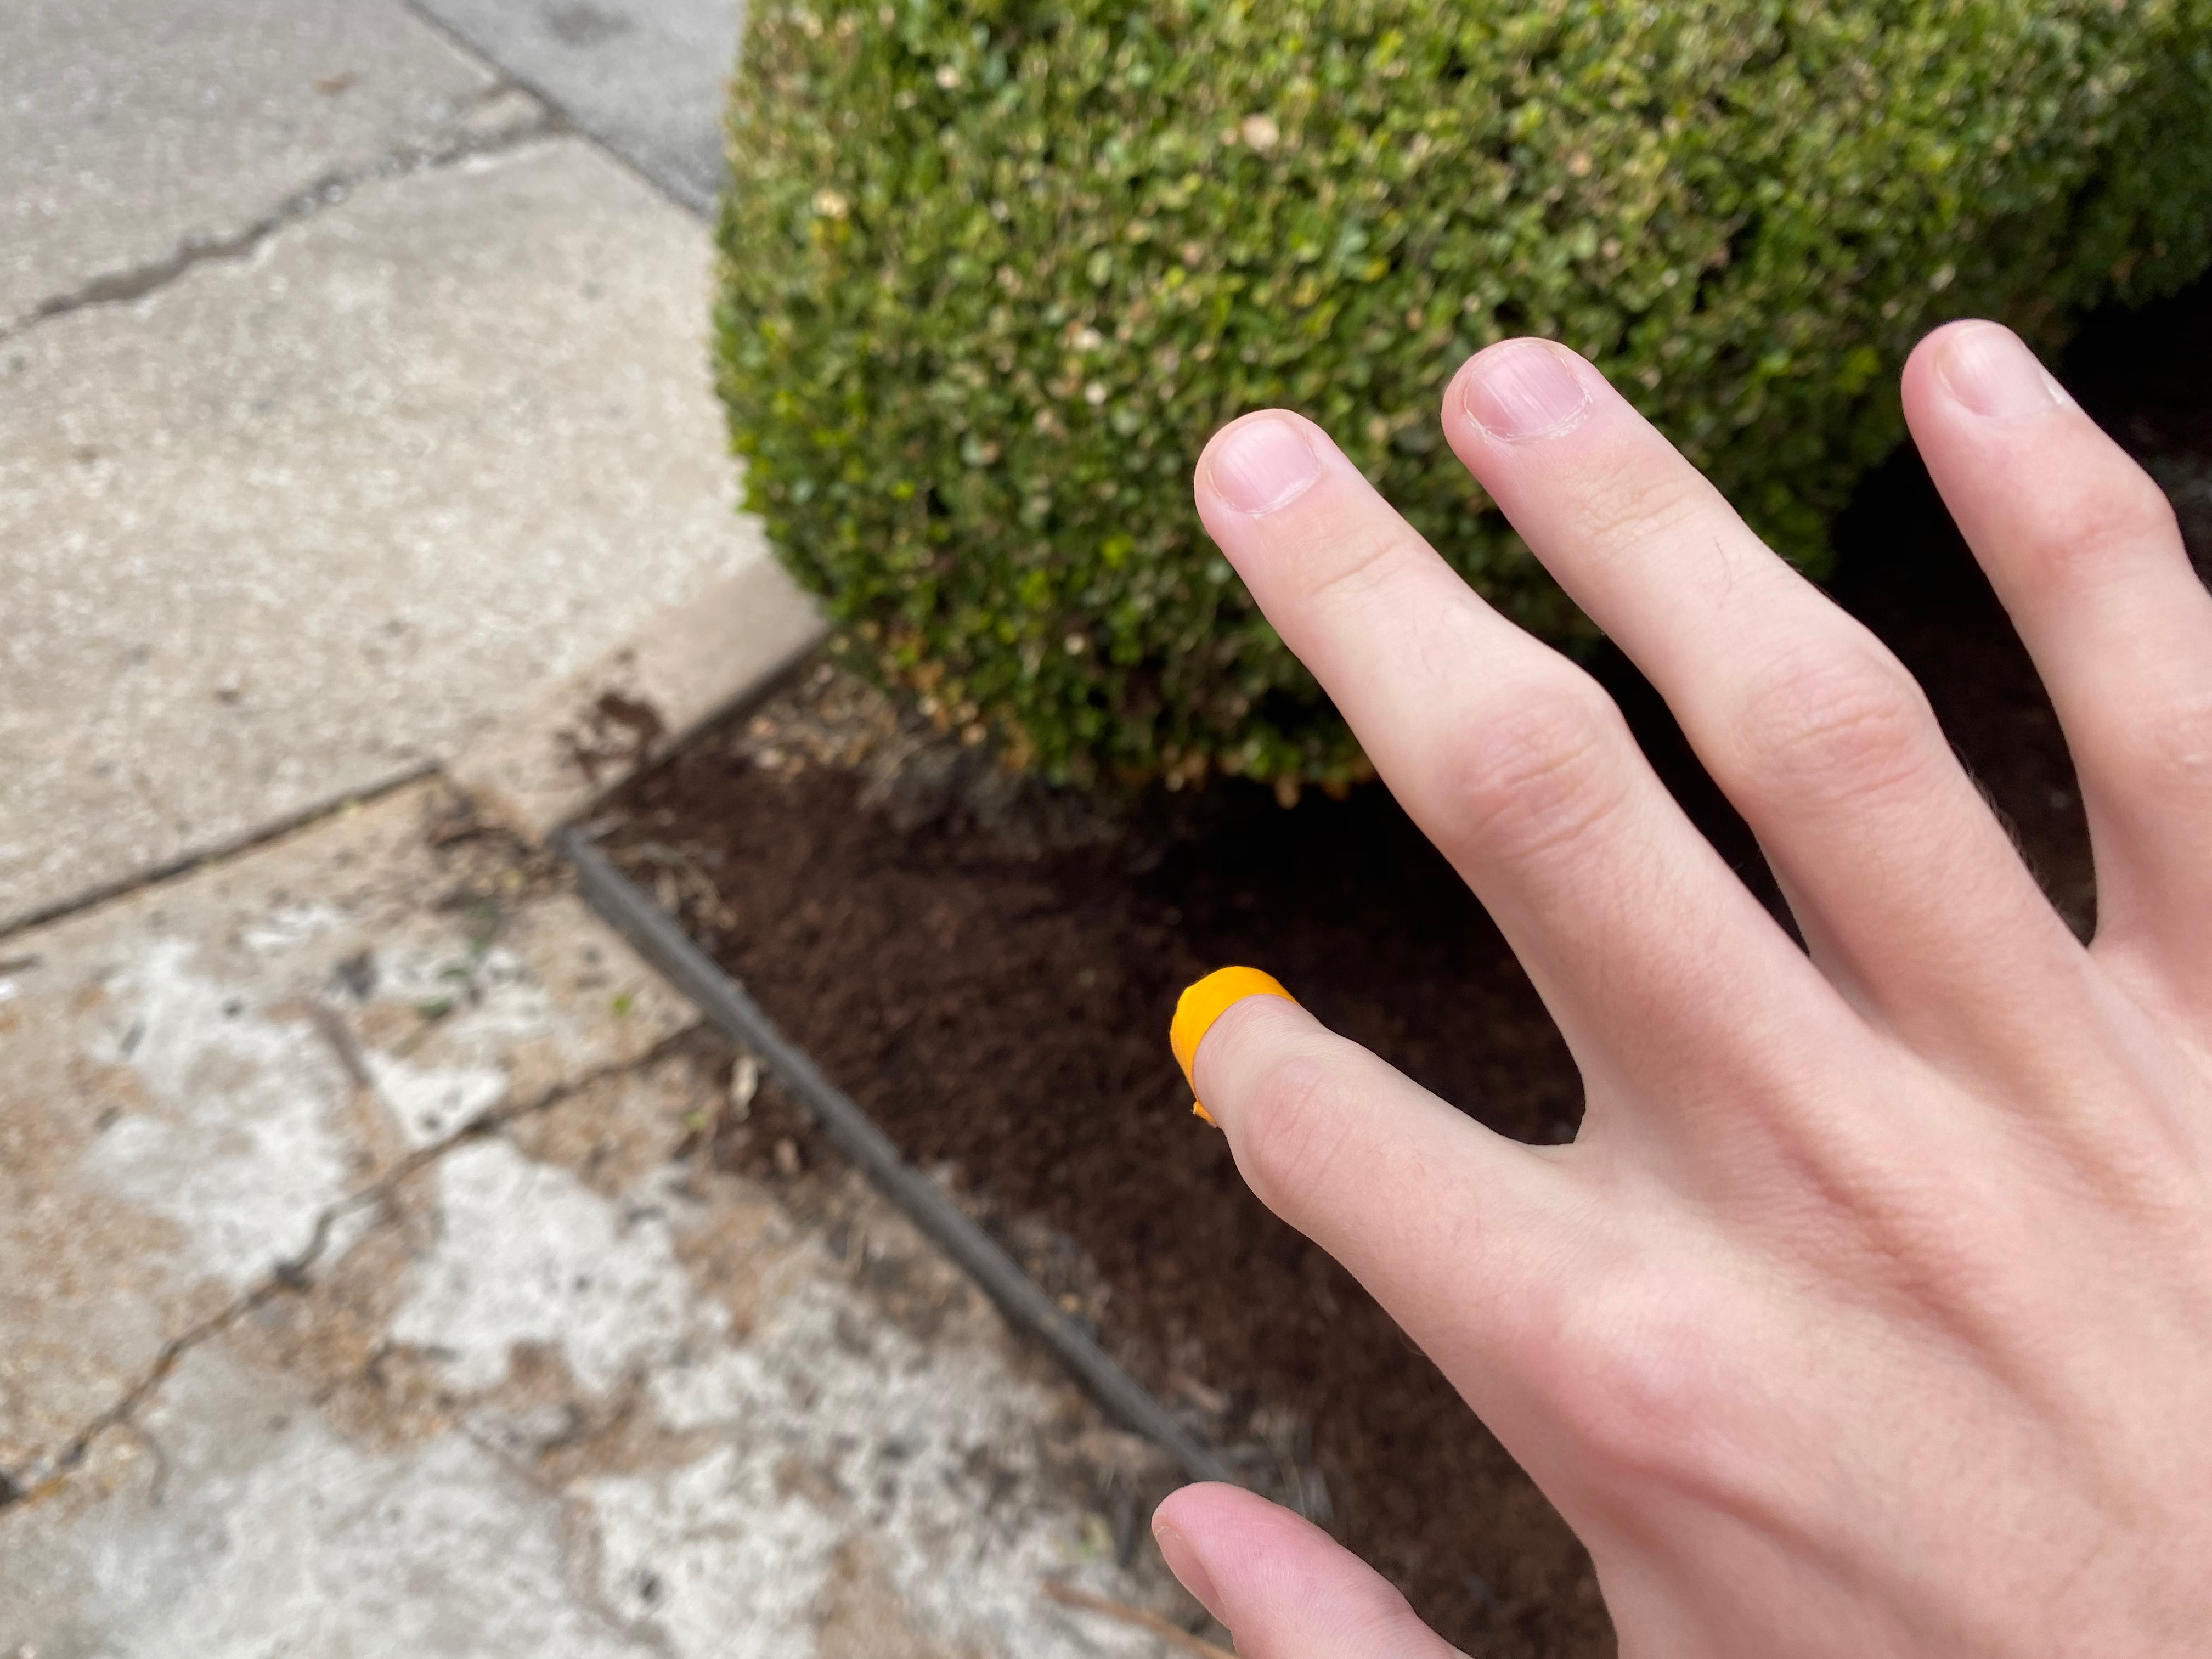fingertip: (1158, 957, 1318, 1143)
